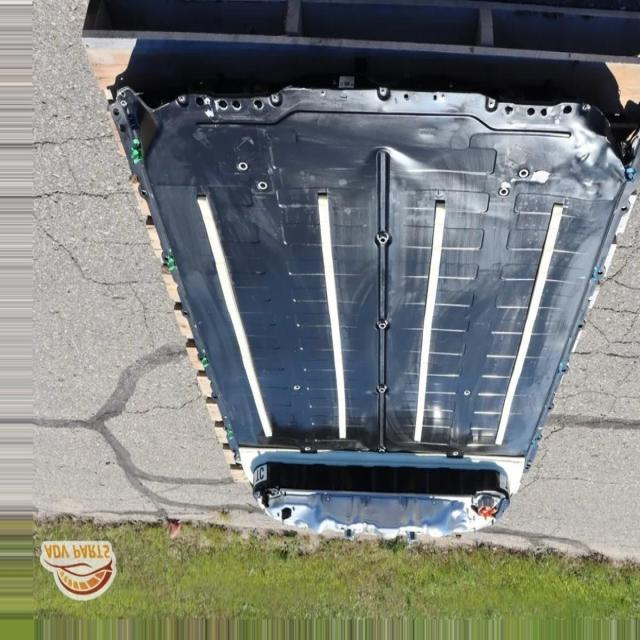Nut: (374, 308, 398, 336), (376, 228, 394, 258), (374, 435, 392, 462), (374, 378, 391, 400)
Screw: (517, 160, 534, 185), (498, 180, 514, 206), (297, 442, 319, 459), (290, 380, 308, 400), (235, 154, 249, 178), (461, 383, 476, 404), (448, 444, 465, 462), (256, 175, 270, 196)
